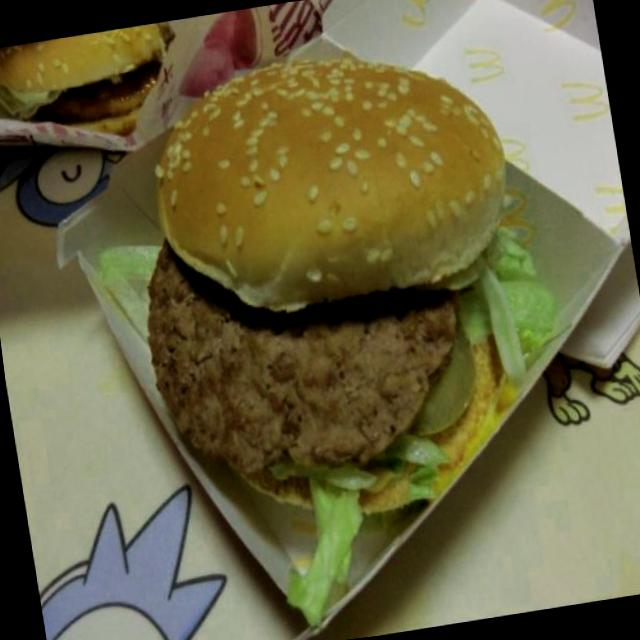Hamburger: (96, 14, 568, 536)
